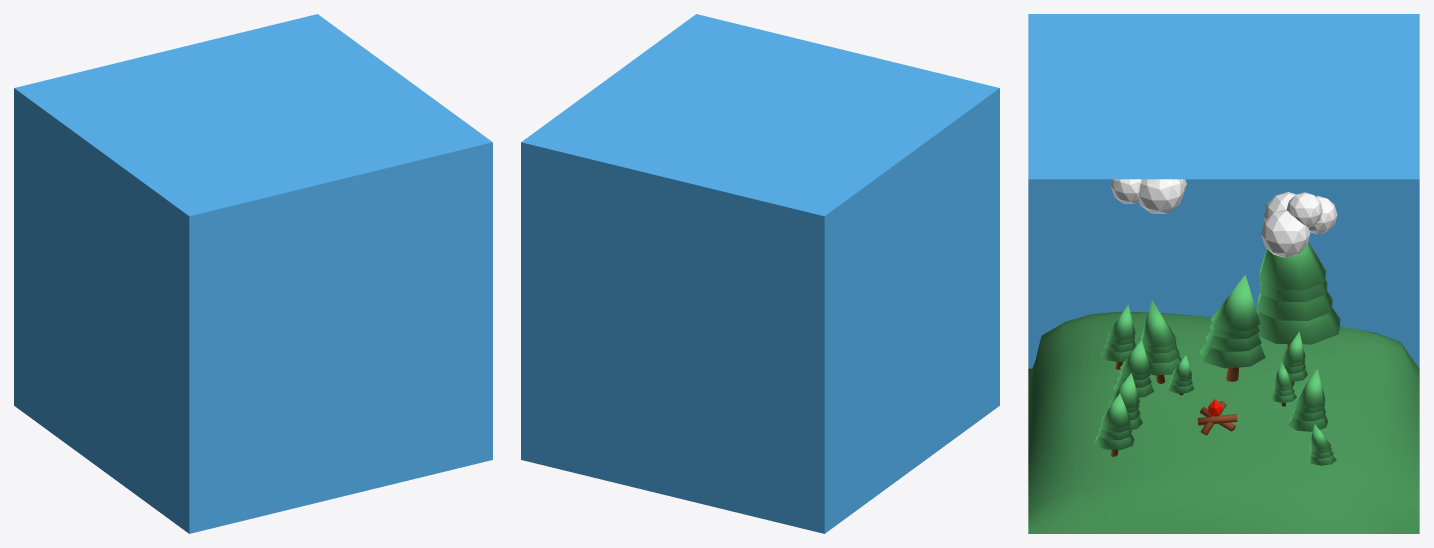
Rendered from forest.gltf.
3 renders of one model, left to right at view 1: azimuth 30°, elevation 25°; view 2: azimuth 150°, elevation 25°; view 3: azimuth 270°, elevation 25°, orthographic. The views are drawn at different scales.
Parts seen in each view (by area): view 1: Cube.001; view 2: Cube.001; view 3: Cube.001.
Part boxes in pixels (x1,y1,x2,y2): Cube.001: (14,14,492,533); Cube.001: (521,14,999,533); Cube.001: (1028,14,1419,533).
Bounding box in the file's own units: 10 × 10 × 10.
1 material, 1 textured.
